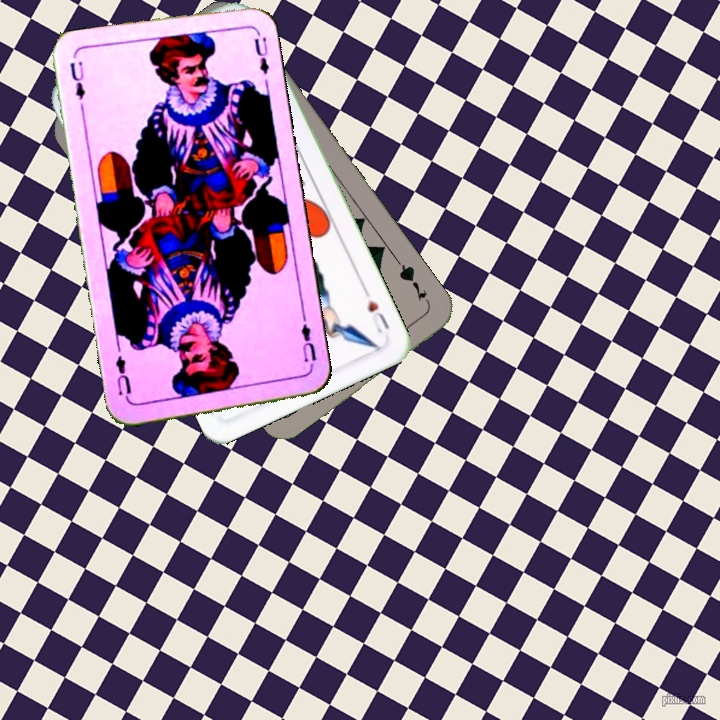EU: (297, 320, 320, 372), (65, 57, 88, 102)
G7: (393, 257, 433, 308)
HU: (359, 284, 392, 336)
